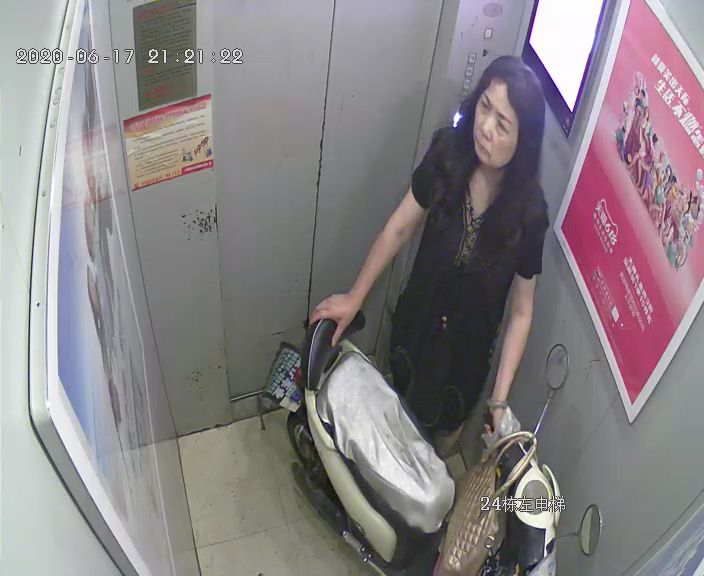Electric-bicycle: (263, 304, 603, 576)
